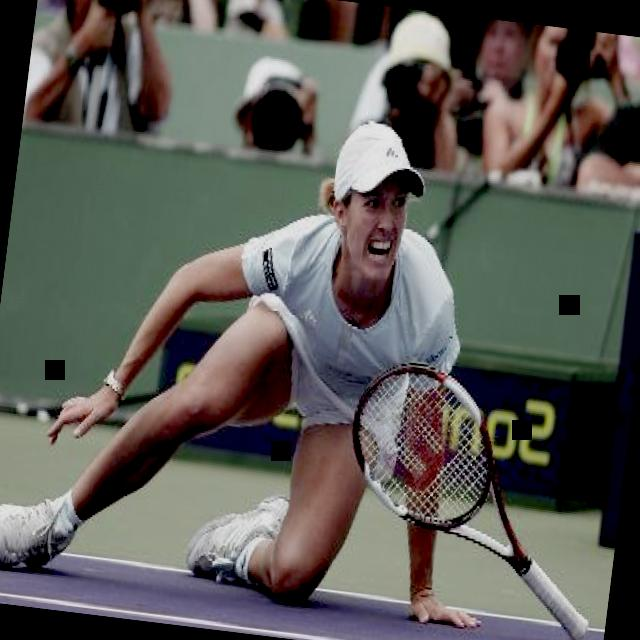Fall-Detected: (0, 64, 529, 631)
